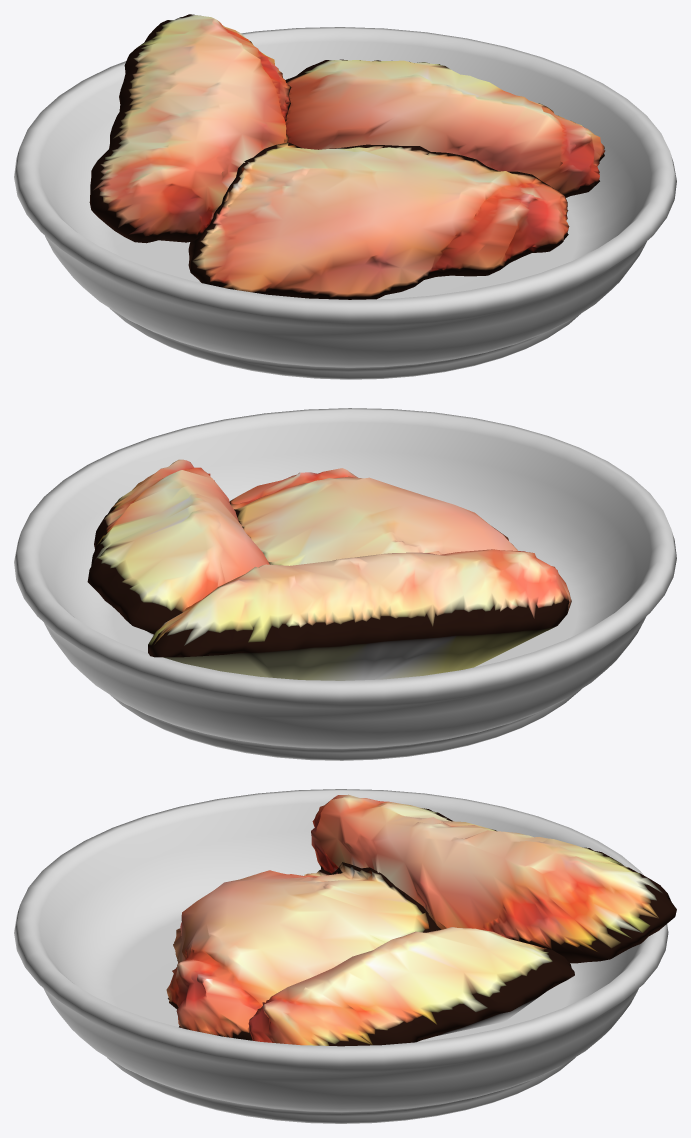
The model's file is SM_wing.fbx.
3 views of the same model, one above another, from view 1: azimuth 30°, elevation 25°; view 2: azimuth 150°, elevation 25°; view 3: azimuth 270°, elevation 25° (orthographic). The views are drawn at different scales.
Parts seen in each view (by area): view 1: SM_wing; view 2: SM_wing; view 3: SM_wing.
Boxes of the visible parts, box(x1,y1,x2,y2) form: SM_wing: box(14, 14, 676, 379); SM_wing: box(14, 408, 676, 760); SM_wing: box(14, 789, 676, 1123).
Bounding box in the file's own units: 0.1938 × 0.053 × 0.2024.
